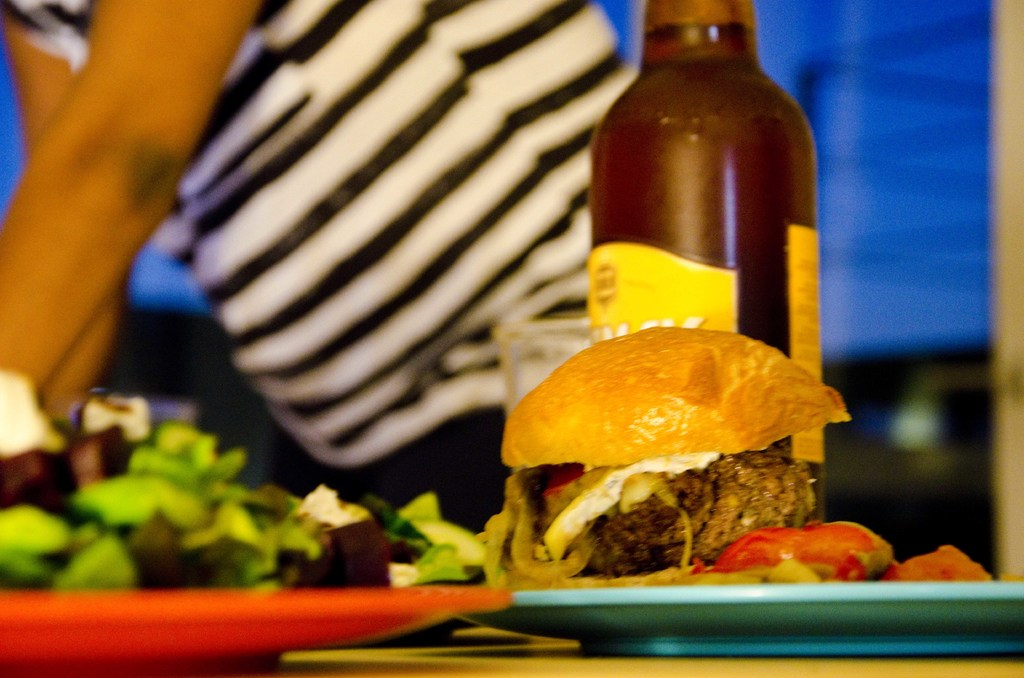Hamburger: (483, 329, 893, 585)
